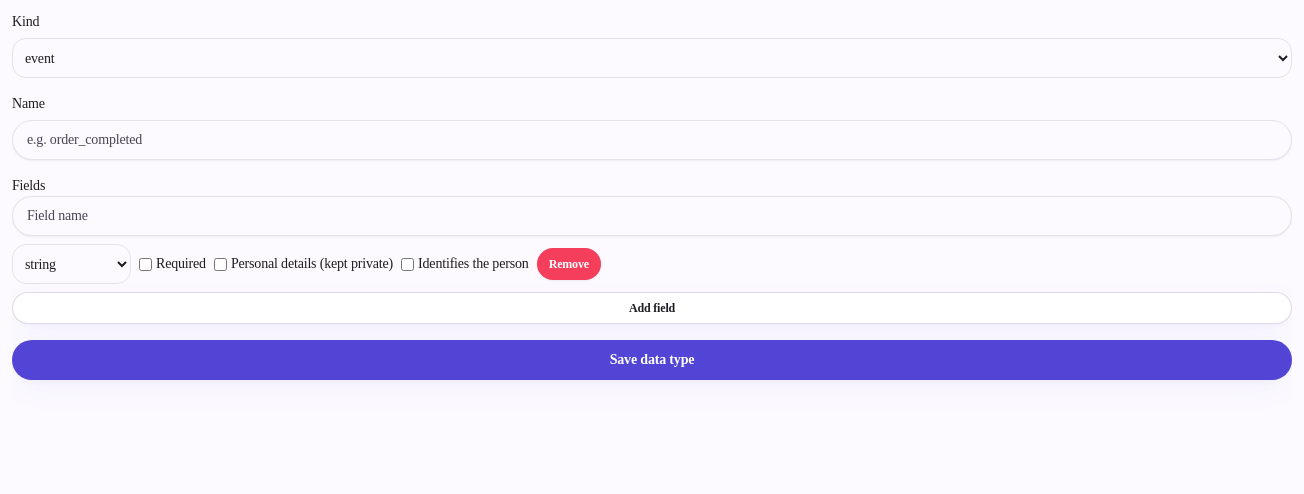
Scenario: RegisterSchemaDefForm › adds and removes field rows
The image size is (1304, 494).
Expected: the number of fields labelled "Field name" is 1, [12, 196, 1292, 236]
Click the button "Add field". click: x=652, y=308
box: [12, 292, 1292, 324]
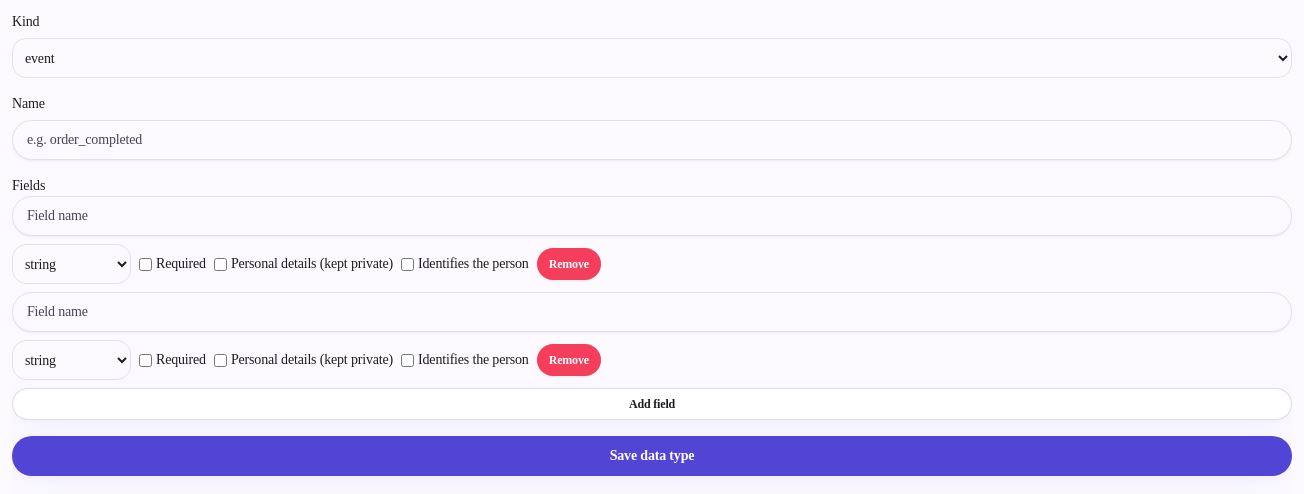
Expected: the number of fields labelled "Field name" is 2, [12, 196, 1292, 236]; [12, 292, 1292, 332]
Click the 1st button "Remove". click: x=569, y=264
box: [537, 248, 601, 280]
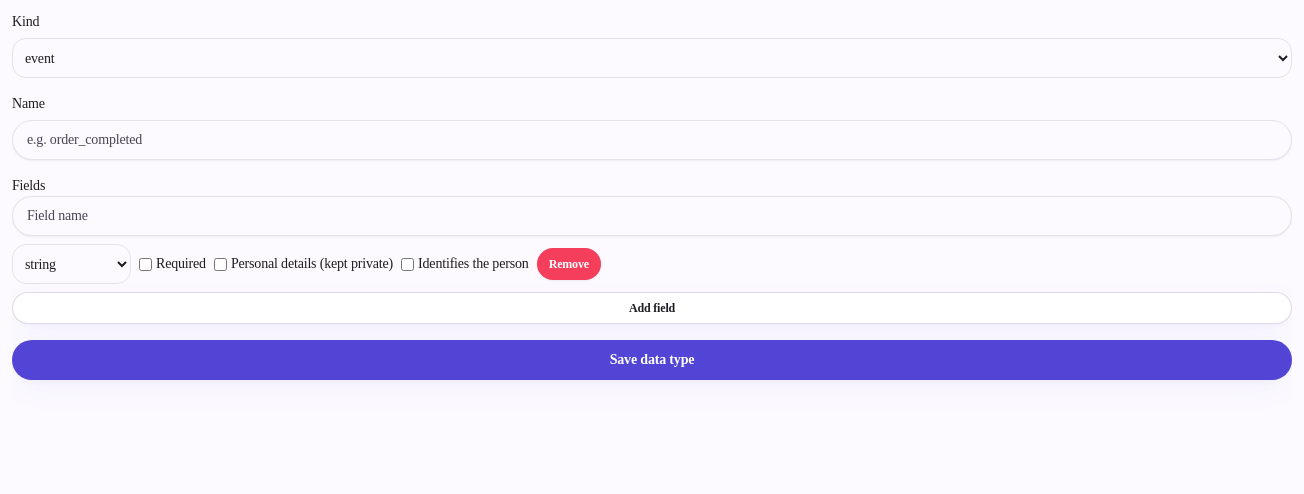
Expected: the number of fields labelled "Field name" is 1, [12, 196, 1292, 236]
